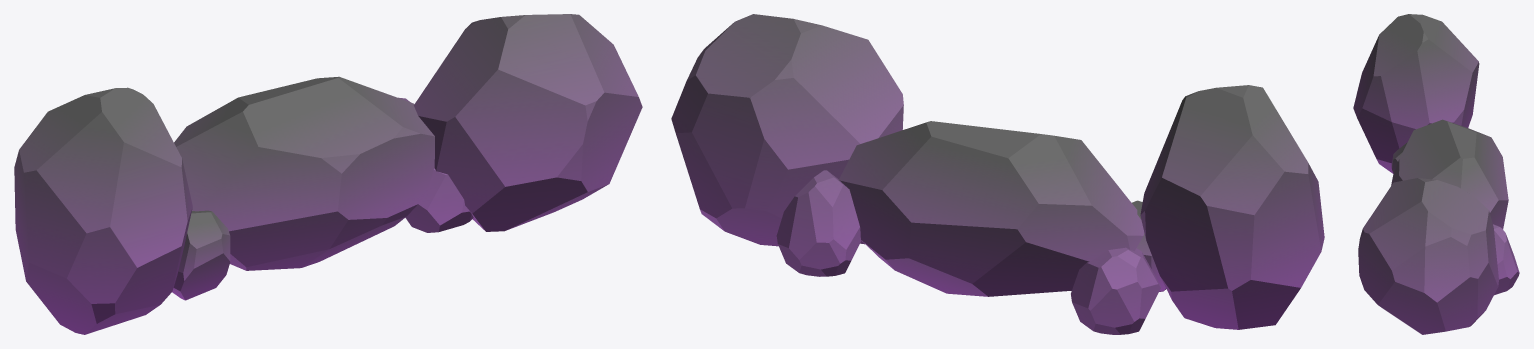
Rendered from rock3test.fbx.
The picture shows the model from 3 angles, left to right: view 1: azimuth 30°, elevation 25°; view 2: azimuth 150°, elevation 25°; view 3: azimuth 270°, elevation 25°; orthographic projection. The views are drawn at different scales.
Visible parts, largest first — view 1: Sphere.029, Sphere.030, Sphere.028, Sphere.032, Sphere.031; view 2: Sphere.029, Sphere.030, Sphere.028, Sphere.033, Sphere.034, Sphere.032; view 3: Sphere.030, Sphere.028, Sphere.029, Sphere.033, Sphere.032.
Boxes of the visible parts, x1,y1,x2,y2 form: Sphere.029: [174, 76, 434, 270]; Sphere.030: [414, 14, 642, 231]; Sphere.028: [14, 87, 192, 334]; Sphere.032: [172, 210, 230, 300]; Sphere.031: [405, 168, 473, 232]; Sphere.029: [839, 121, 1144, 296]; Sphere.030: [671, 14, 903, 246]; Sphere.028: [1140, 85, 1324, 329]; Sphere.033: [776, 170, 861, 276]; Sphere.034: [1071, 247, 1161, 334]; Sphere.032: [1132, 200, 1166, 291]; Sphere.030: [1358, 178, 1498, 334]; Sphere.028: [1353, 14, 1479, 173]; Sphere.029: [1391, 119, 1508, 228]; Sphere.033: [1493, 224, 1519, 295]; Sphere.032: [1391, 142, 1407, 173].
Size of the model in its own units: 343 by 128 by 117.
